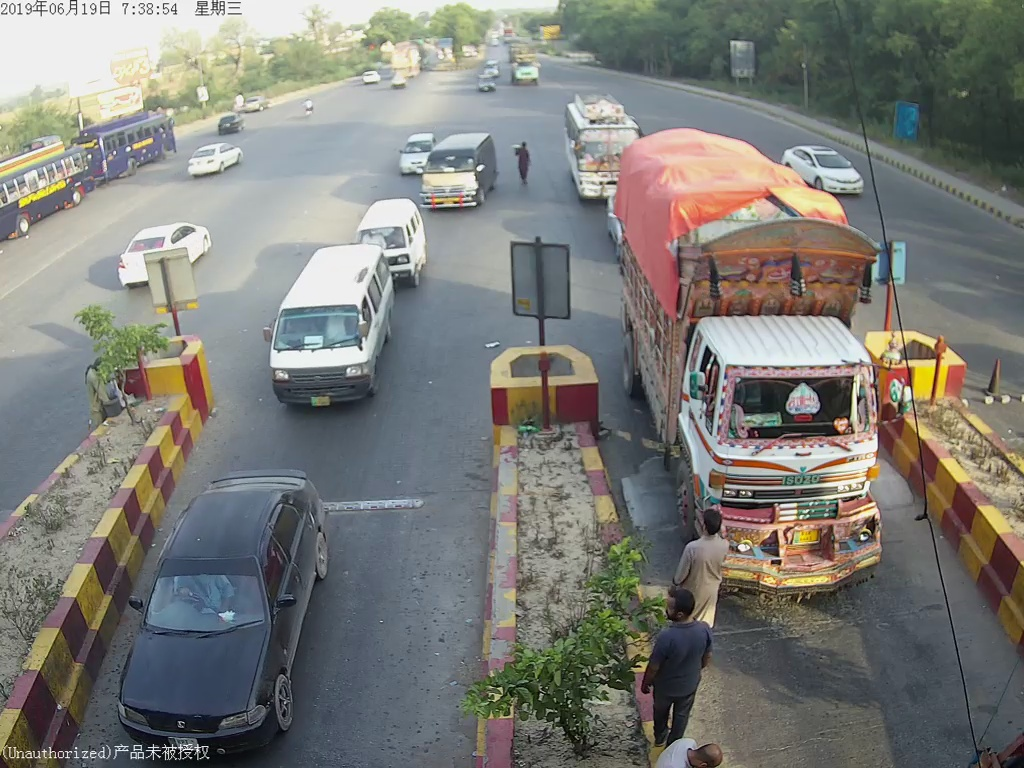Cat-1: (119, 467, 336, 746), (351, 197, 435, 281), (790, 137, 869, 197)
Cat-2: (265, 238, 389, 408), (418, 132, 502, 211)
Cat-3: (559, 94, 639, 205)
Cat-4: (610, 129, 898, 591)
